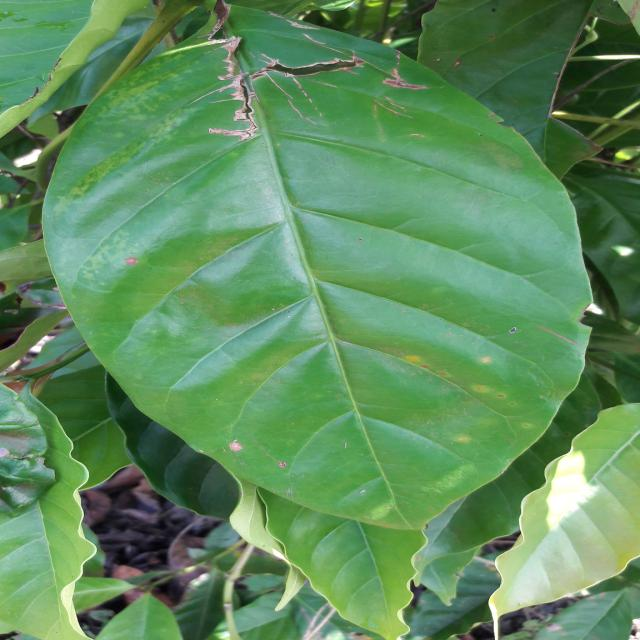Enfermedad-Roya: (41, 7, 592, 535)
